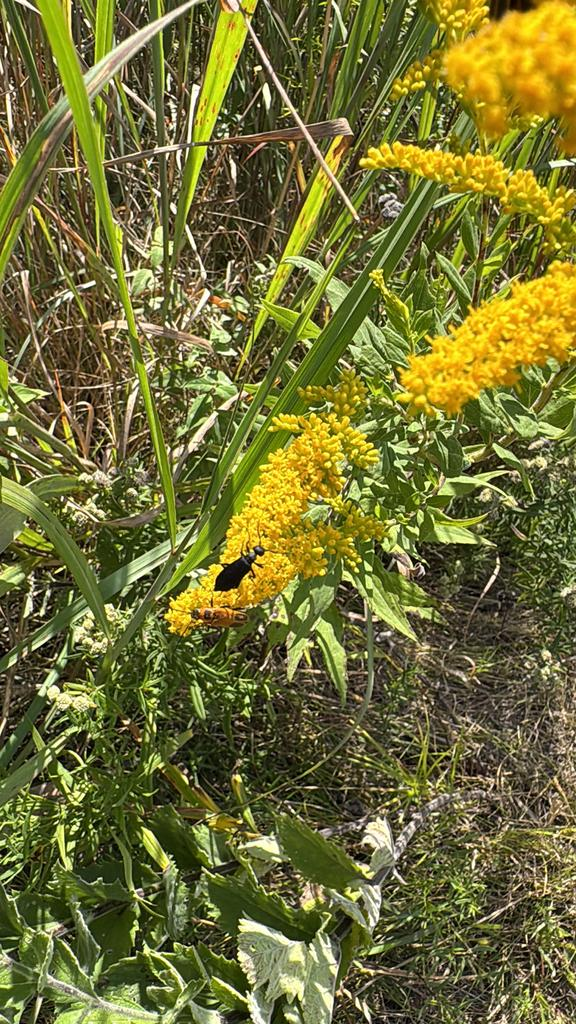blister_beetle: (205, 514, 284, 605)
